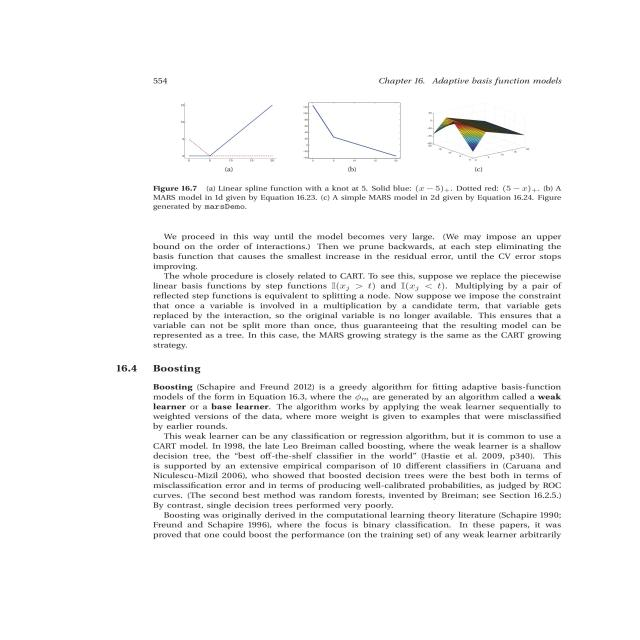diagram: (63, 93, 594, 237)
